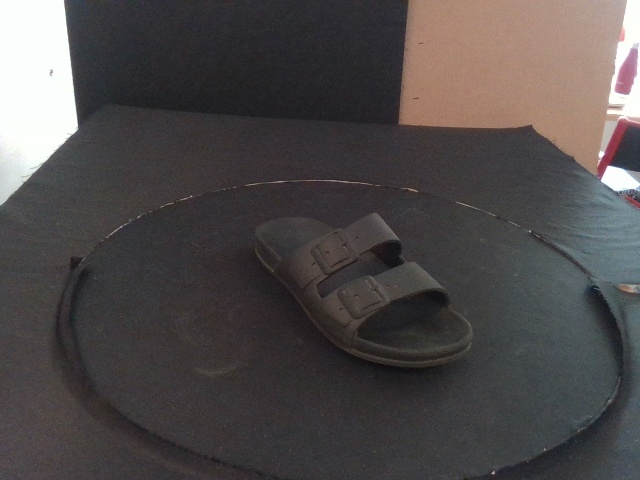shoe: (252, 213, 475, 369)
